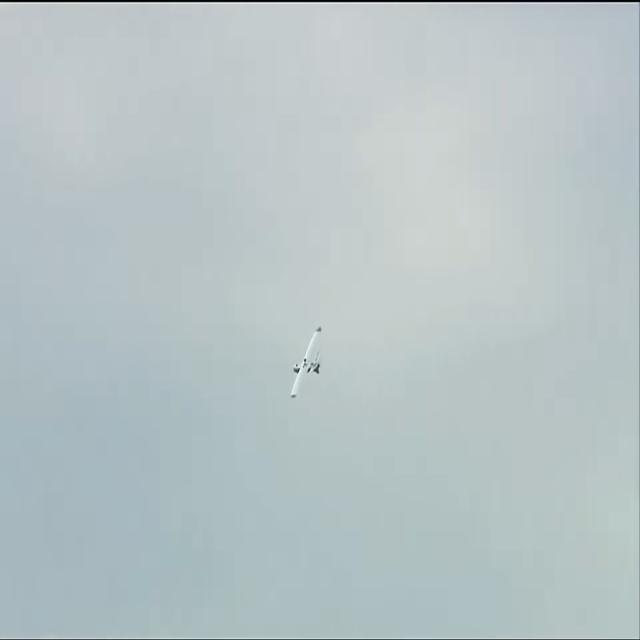iha: (290, 360, 322, 364)
